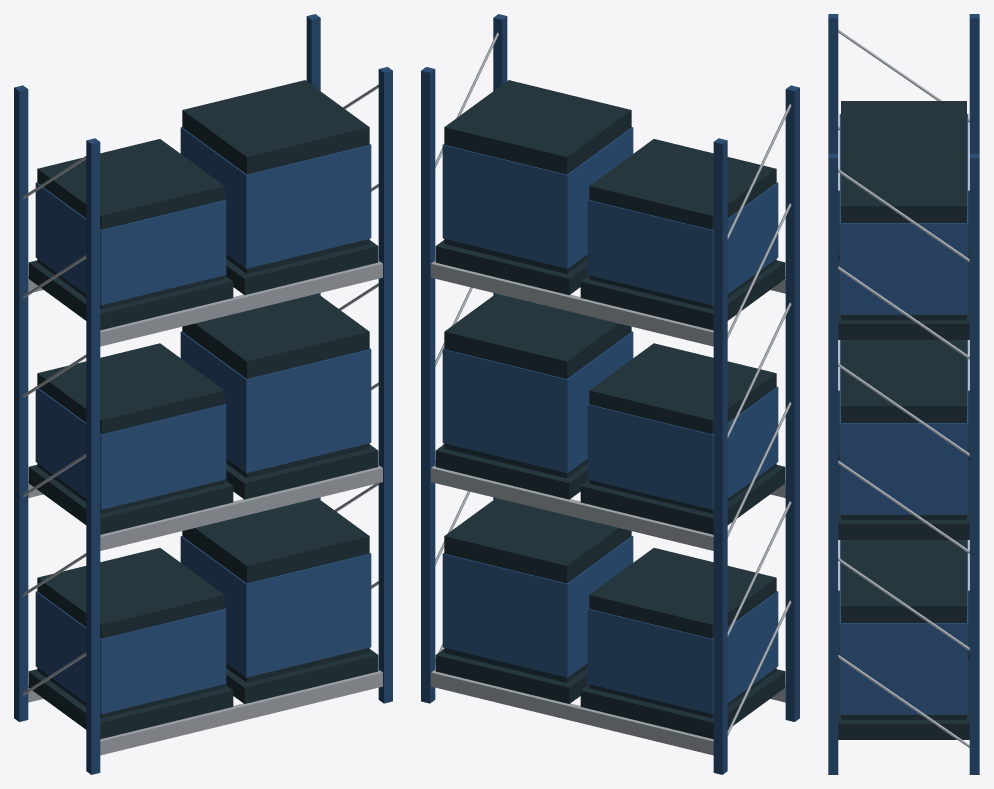
Rendered from PALLET_RACK.glb.
3 renders of one model, left to right at view 1: azimuth 30°, elevation 25°; view 2: azimuth 150°, elevation 25°; view 3: azimuth 270°, elevation 25°, orthographic. The views are drawn at different scales.
Visible parts, largest first — view 1: glossyPlastic_4, cardboard_3, paint_0, timber_2, steel_1; view 2: glossyPlastic_4, cardboard_3, paint_0, timber_2, steel_1; view 3: cardboard_3, glossyPlastic_4, paint_0, timber_2, steel_1.
Part boxes in pixels (bbox=[...]): glossyPlastic_4: bbox=[35, 127, 371, 714]; cardboard_3: bbox=[37, 80, 369, 717]; paint_0: bbox=[14, 14, 392, 774]; timber_2: bbox=[28, 240, 378, 739]; steel_1: bbox=[22, 84, 382, 755]; glossyPlastic_4: bbox=[442, 127, 778, 714]; cardboard_3: bbox=[444, 80, 776, 717]; paint_0: bbox=[421, 14, 799, 774]; timber_2: bbox=[435, 240, 785, 739]; steel_1: bbox=[431, 32, 791, 755]; cardboard_3: bbox=[841, 101, 966, 719]; glossyPlastic_4: bbox=[839, 114, 968, 714]; paint_0: bbox=[828, 14, 979, 774]; timber_2: bbox=[838, 190, 969, 739]; steel_1: bbox=[838, 29, 969, 747].
Bounding box in the file's own units: 2.7 × 5.4 × 1.2.
